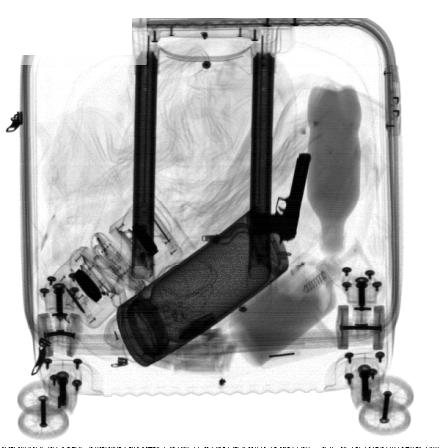Gun: (250, 153, 314, 248)
